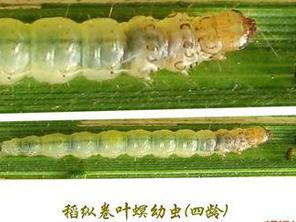pest: (1, 9, 257, 81), (1, 129, 272, 157)
